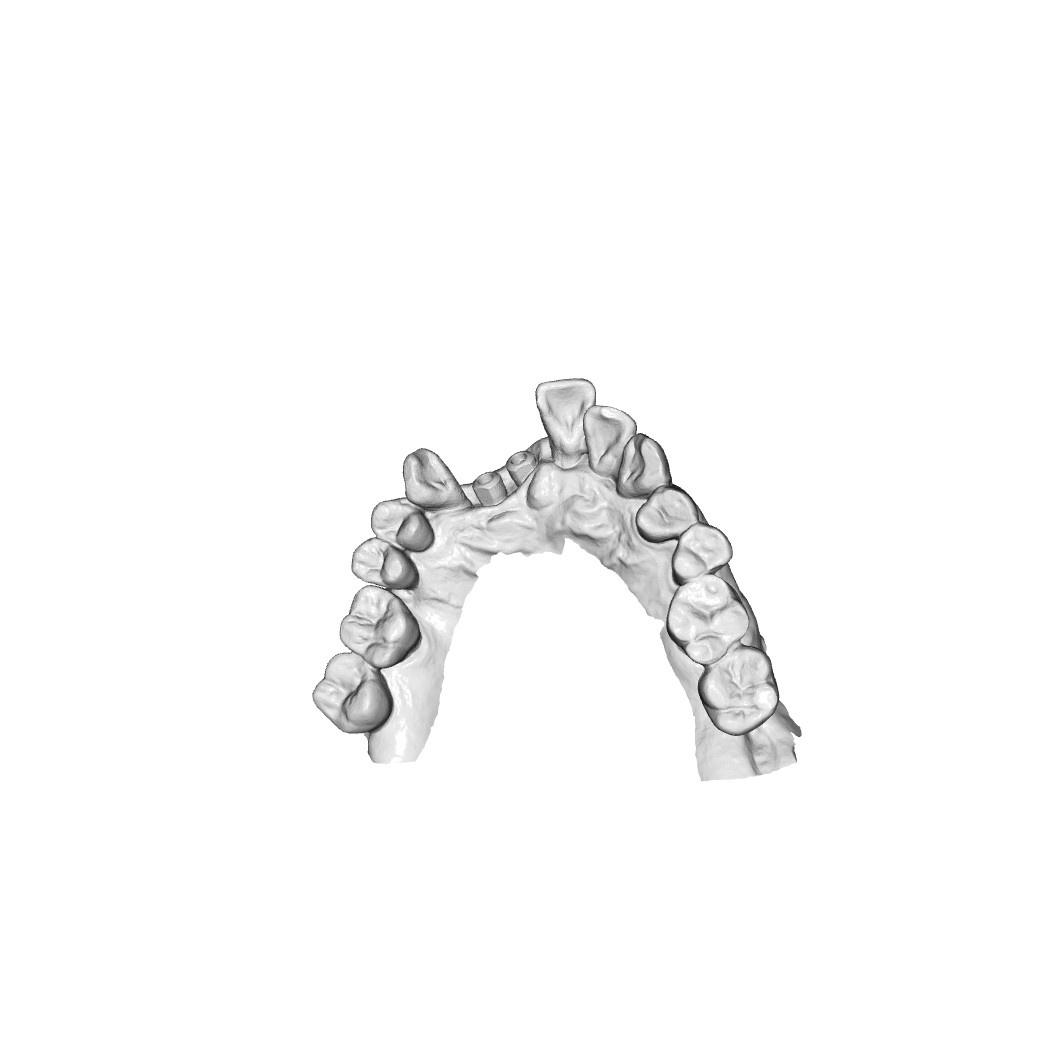canine: (401, 445, 467, 507), (617, 433, 672, 497)
implant: (512, 448, 545, 490), (473, 470, 510, 507)
incisor: (533, 378, 597, 458), (587, 406, 636, 470)
molar: (696, 648, 779, 738), (665, 578, 749, 665), (313, 651, 393, 736), (339, 588, 415, 663)
premolar: (666, 521, 732, 581), (368, 497, 436, 554), (636, 485, 700, 543), (349, 535, 416, 590)
